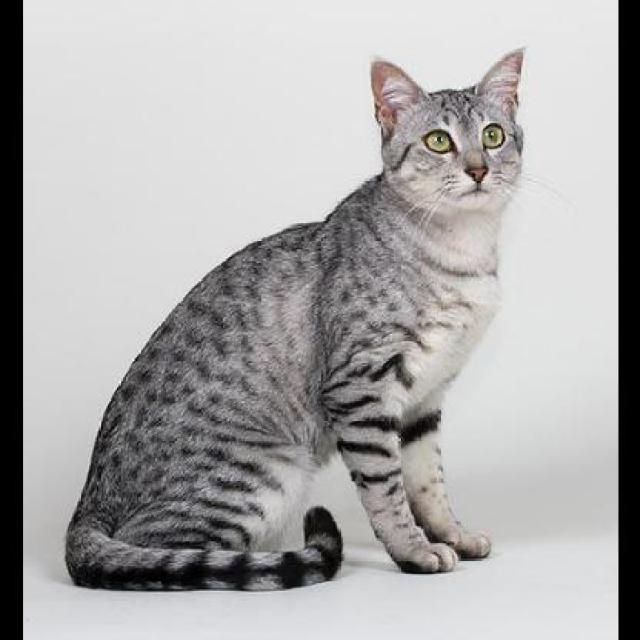unauthorized: (63, 45, 529, 592)
